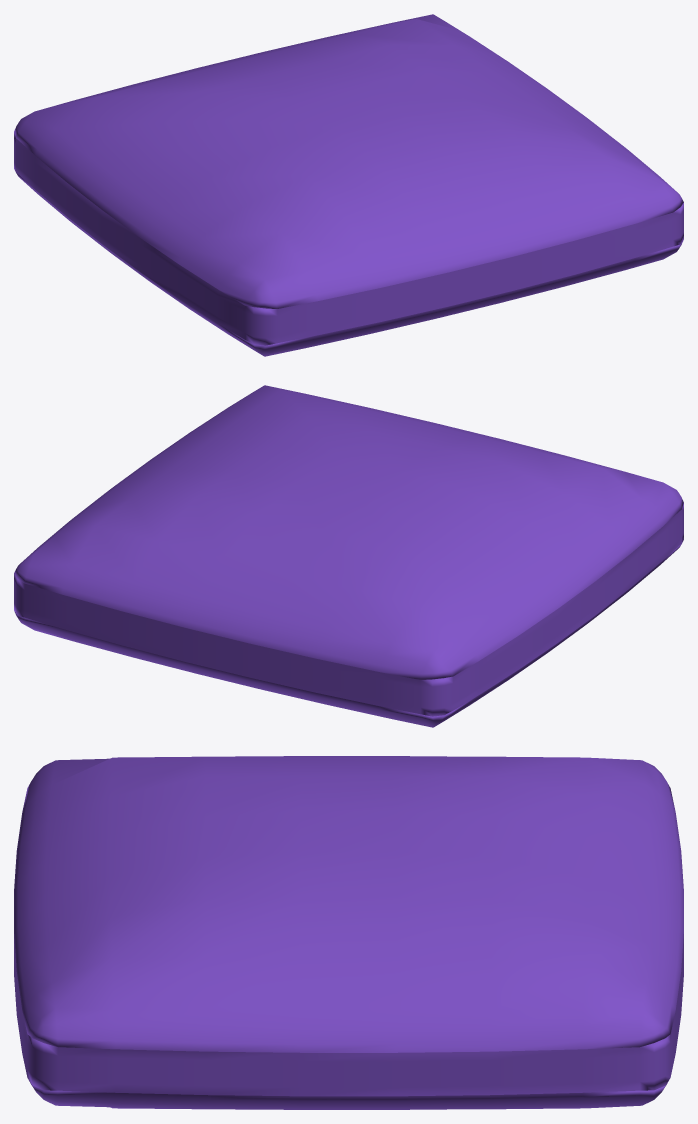
Rendered from cushion__107.glb.
3 renders of one model, top to bottom at view 1: azimuth 30°, elevation 25°; view 2: azimuth 150°, elevation 25°; view 3: azimuth 270°, elevation 25°, orthographic. The views are drawn at different scales.
Visible parts, largest first — view 1: cushion__107; view 2: cushion__107; view 3: cushion__107.
Boxes of the visible parts, box(x1,y1,x2,y2) form: cushion__107: box(14, 14, 683, 356); cushion__107: box(14, 385, 683, 727); cushion__107: box(14, 756, 683, 1109).
Bounding box in the file's own units: 0.45 × 0.15 × 0.45.
